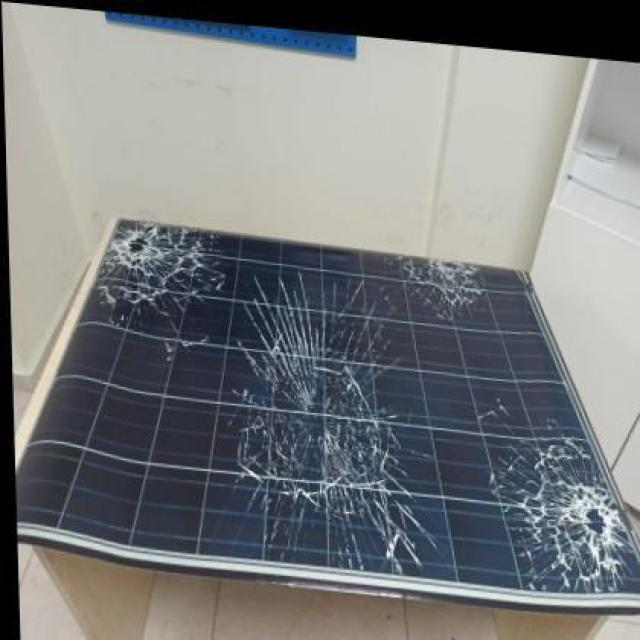cracked: (41, 218, 639, 599)
